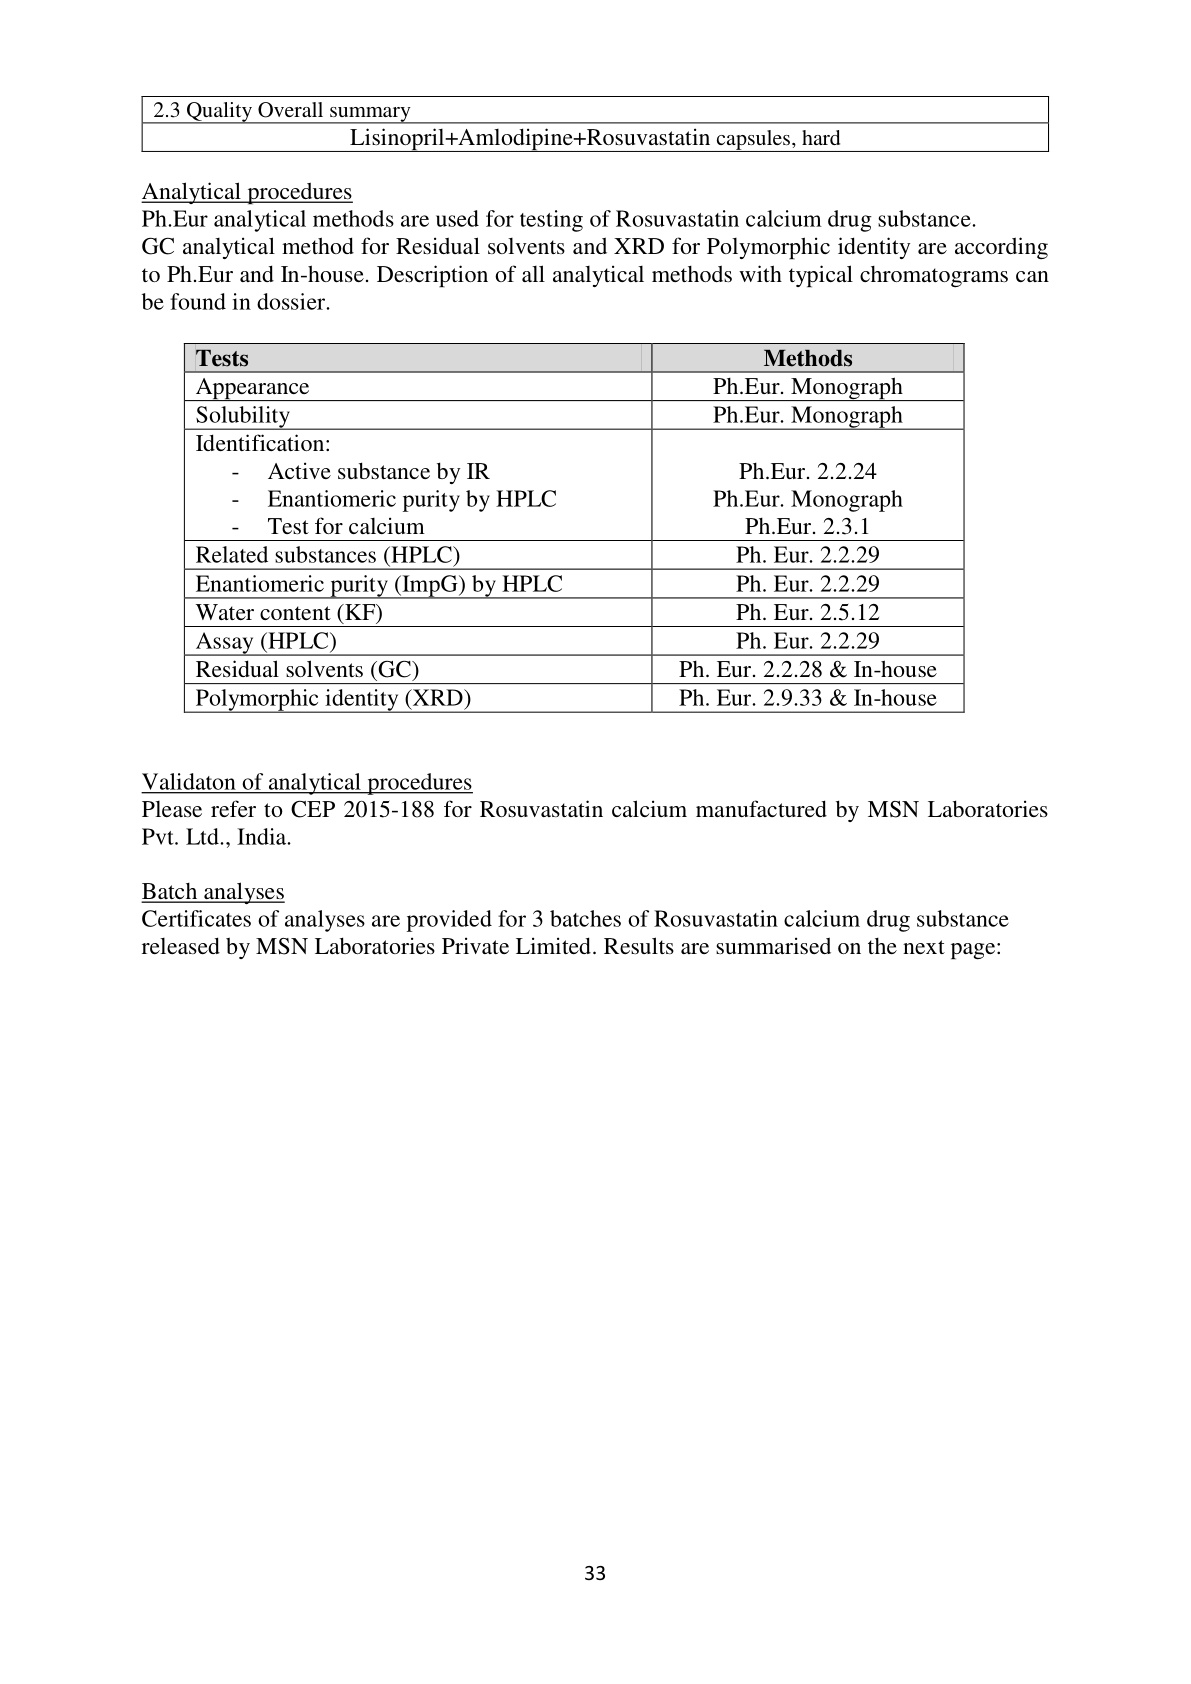full_lined: (184, 341, 965, 713), (140, 95, 1051, 152)
